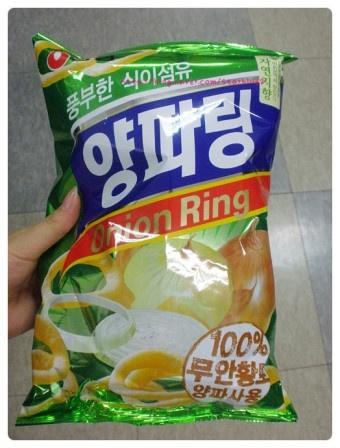snack: (13, 32, 300, 427)
